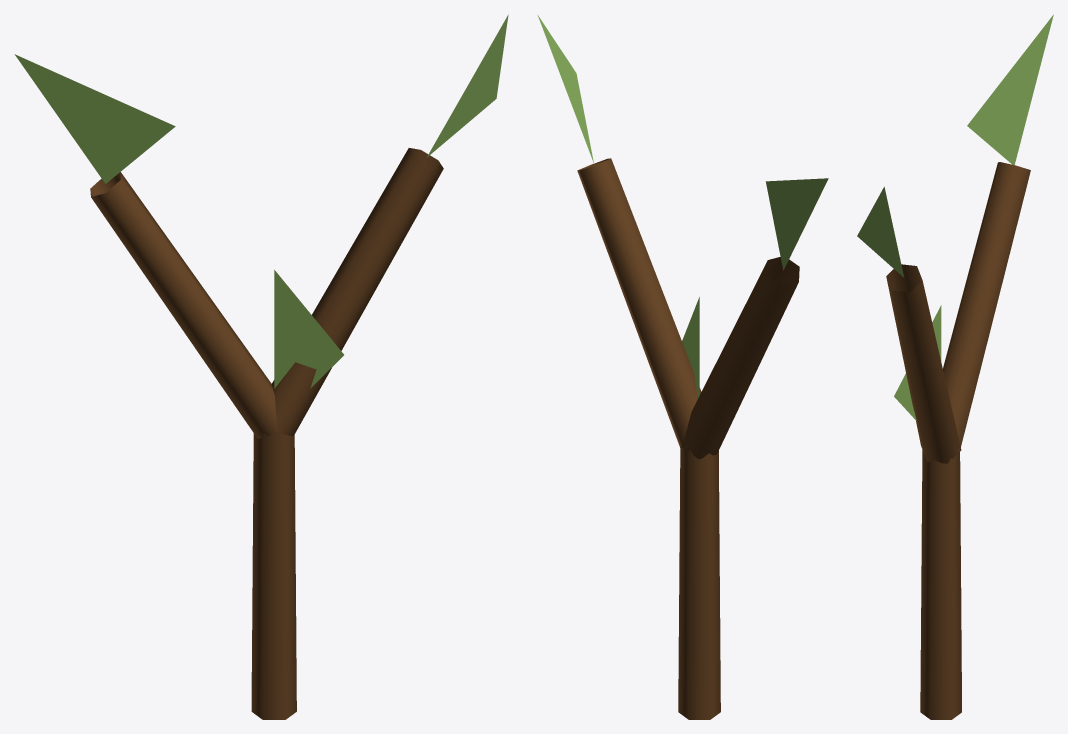
The model's file is plant_seed_1.obj.
3 views of the same model, side by side, from view 1: azimuth 30°, elevation 25°; view 2: azimuth 150°, elevation 25°; view 3: azimuth 270°, elevation 25° (orthographic). The views are drawn at different scales.
Parts seen in each view (by area): view 1: stems, leaves; view 2: stems, leaves; view 3: stems, leaves.
Part boxes in pixels (x1=…): stems: x1=90, y1=148, x2=443, y2=719; leaves: x1=14, y1=14, x2=508, y2=388; stems: x1=577, y1=158, x2=799, y2=719; leaves: x1=537, y1=15, x2=828, y2=398; stems: x1=886, y1=162, x2=1030, y2=719; leaves: x1=857, y1=14, x2=1053, y2=420.
Bounding box in the file's own units: 1.57 × 2.51 × 0.7251.
